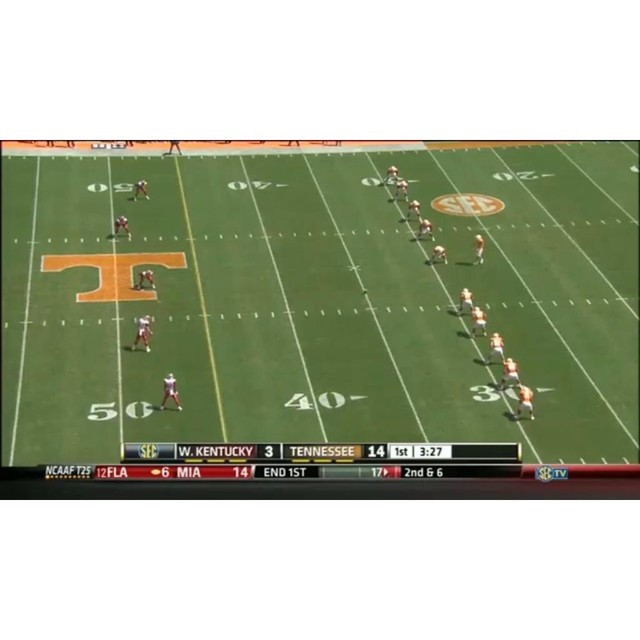american-football-player: (130, 314, 155, 353), (510, 385, 536, 421), (160, 372, 182, 411), (499, 357, 523, 391), (471, 305, 489, 338), (488, 332, 506, 364), (399, 199, 422, 224), (388, 178, 410, 204), (111, 215, 132, 241), (425, 244, 448, 266), (458, 286, 475, 315), (135, 269, 157, 291), (129, 180, 151, 202), (415, 218, 435, 242), (472, 233, 486, 267)
